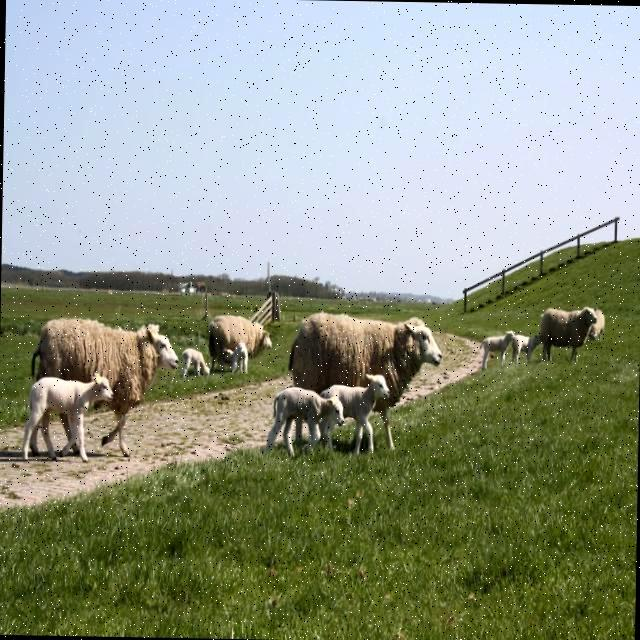sheep: (24, 371, 113, 459)
